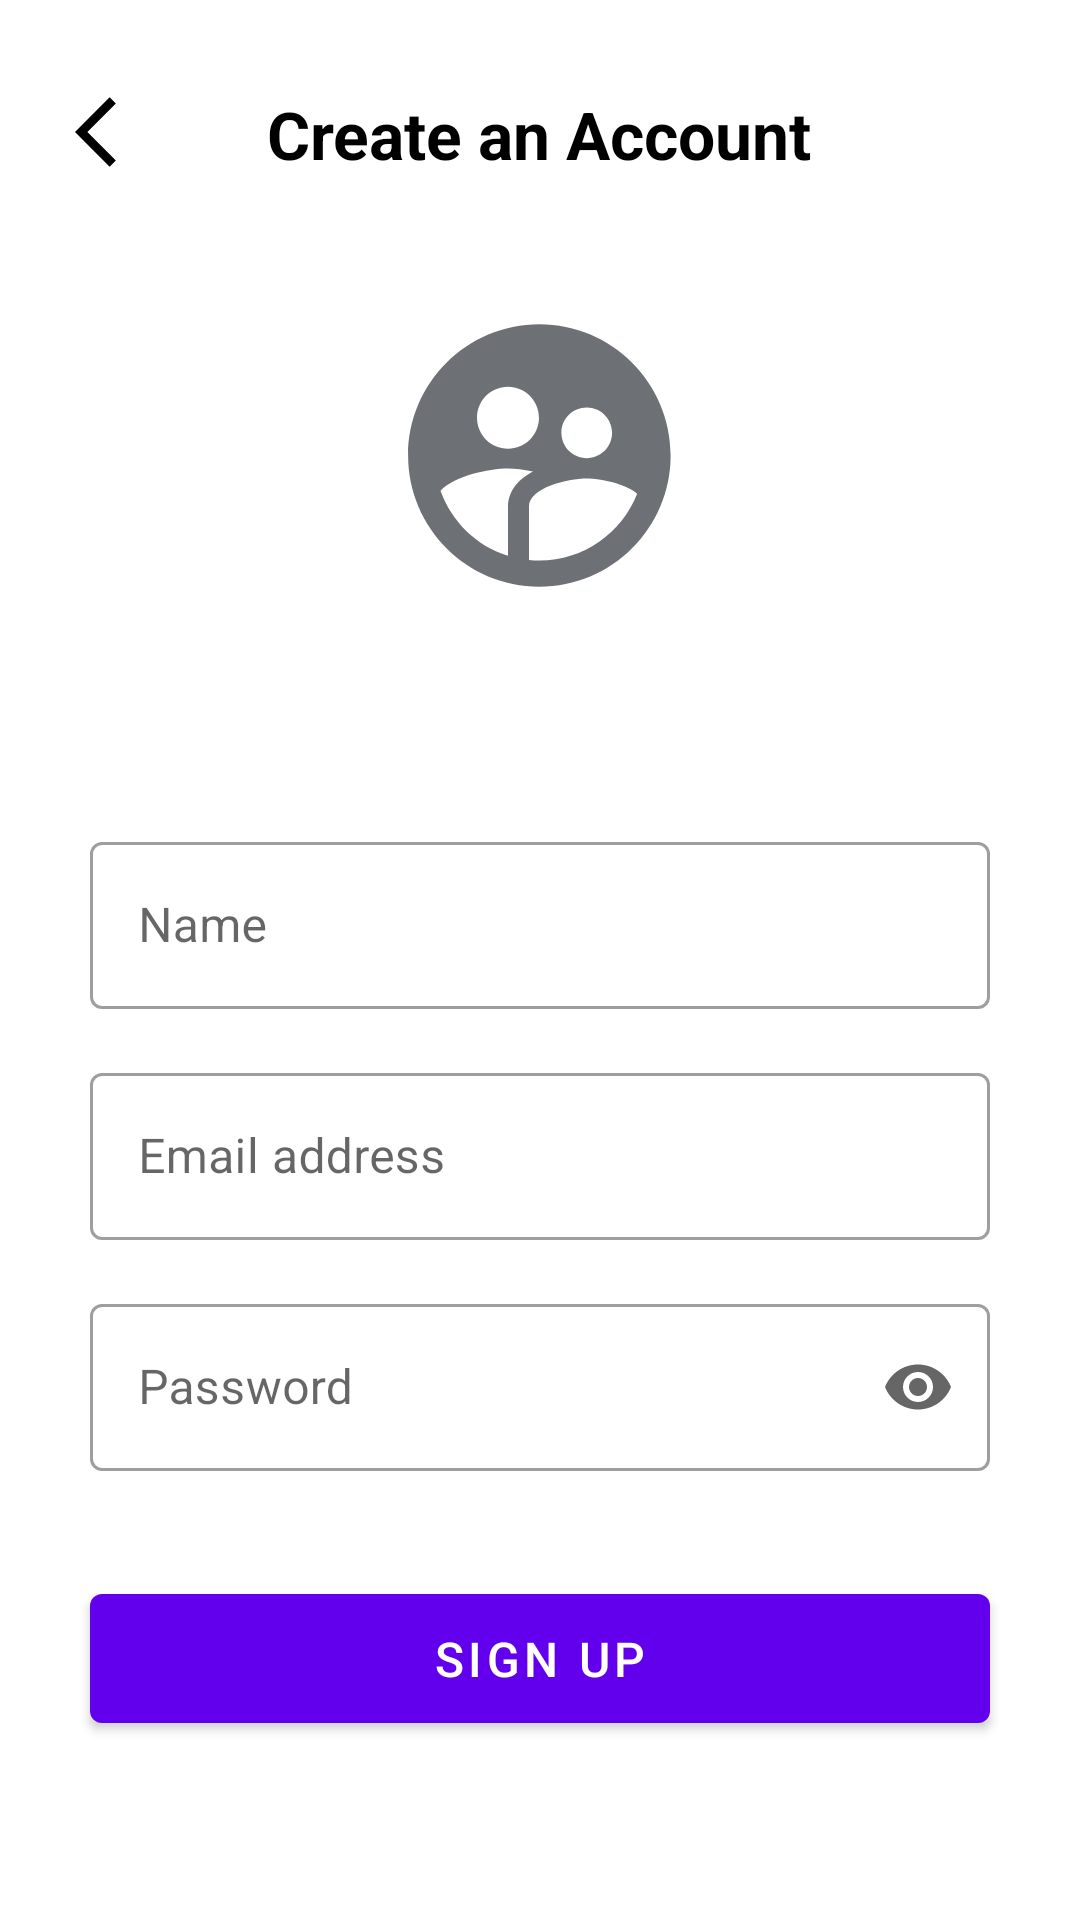

Icon click points for this 1080×1920 phone screenshot, format (x=x, y=y):
Back icon: (x=95, y=132)
User Avatar: (x=539, y=455)
